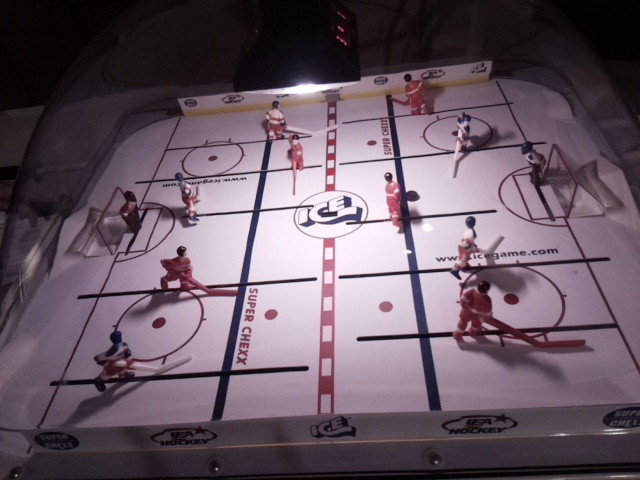puck: (404, 190, 419, 202)
